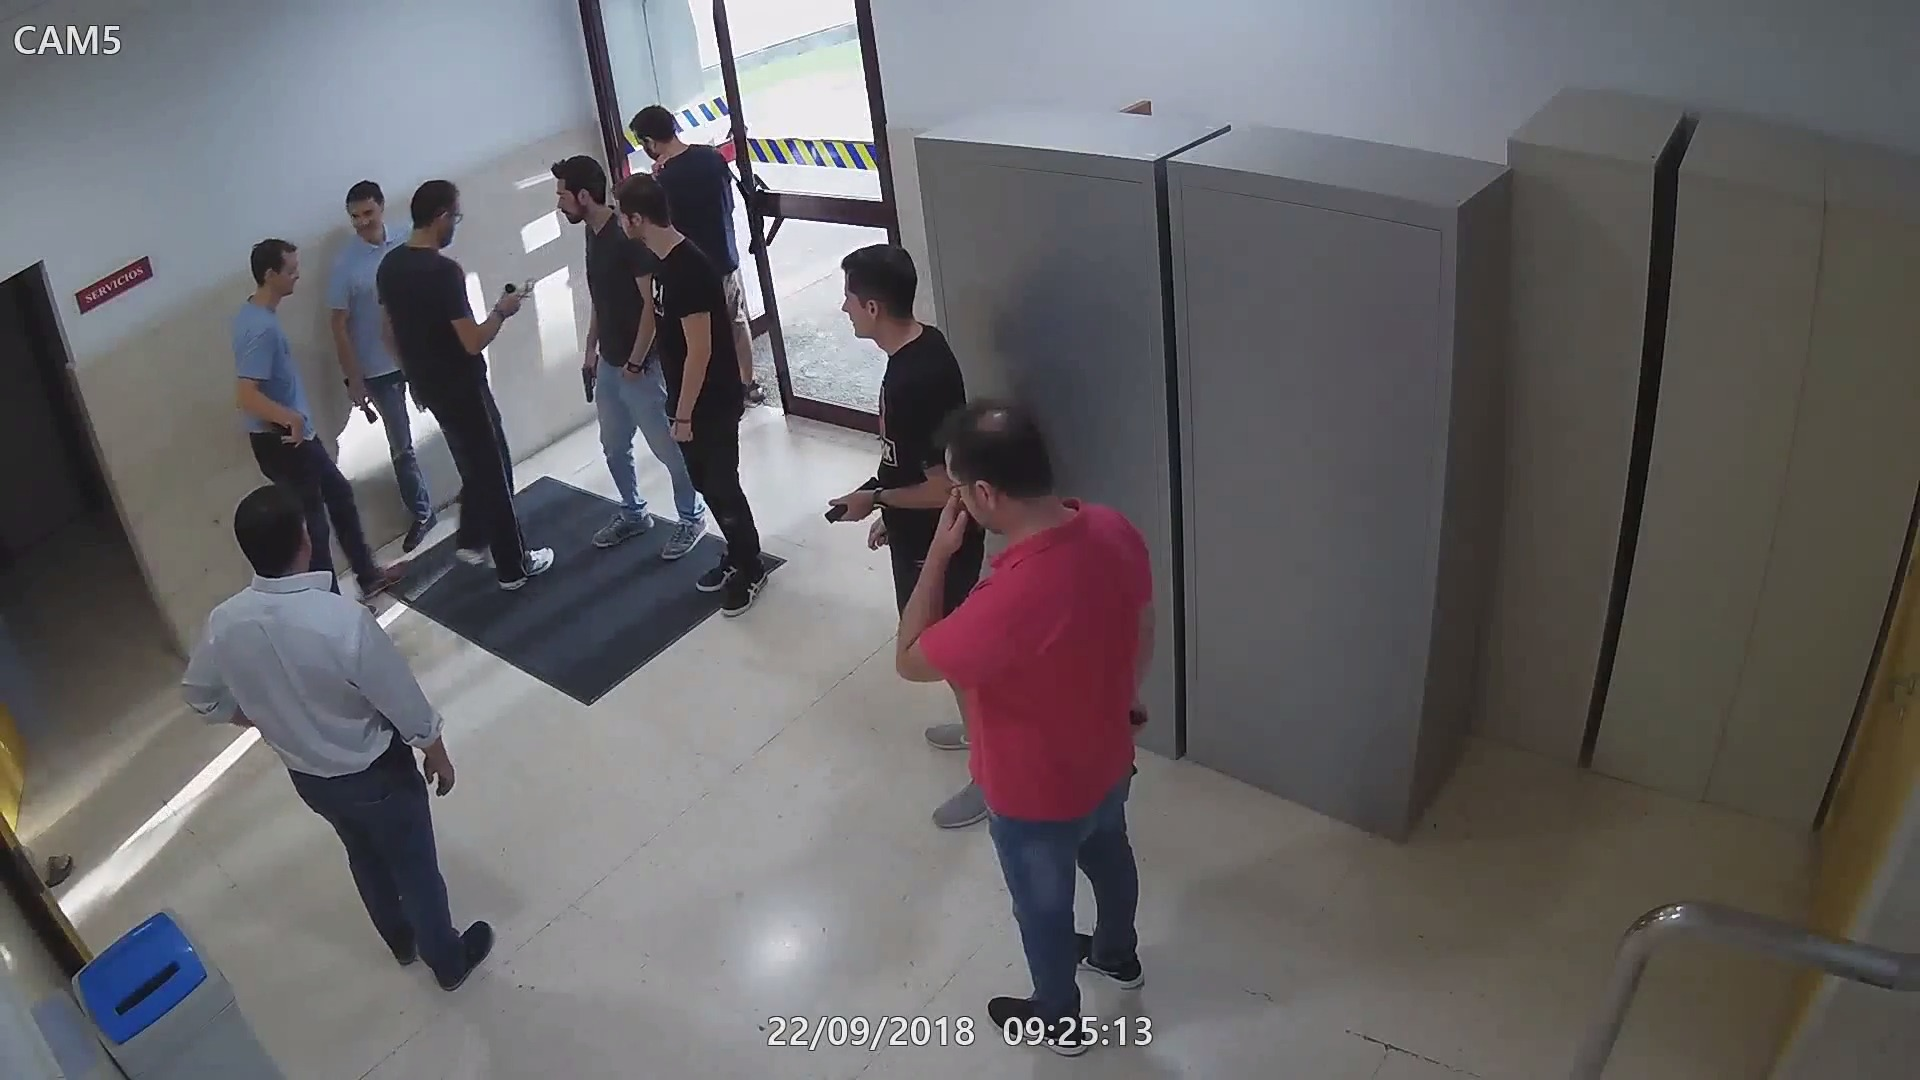Handgun: (819, 469, 884, 530), (378, 721, 415, 773), (269, 417, 309, 462), (572, 348, 600, 404)
